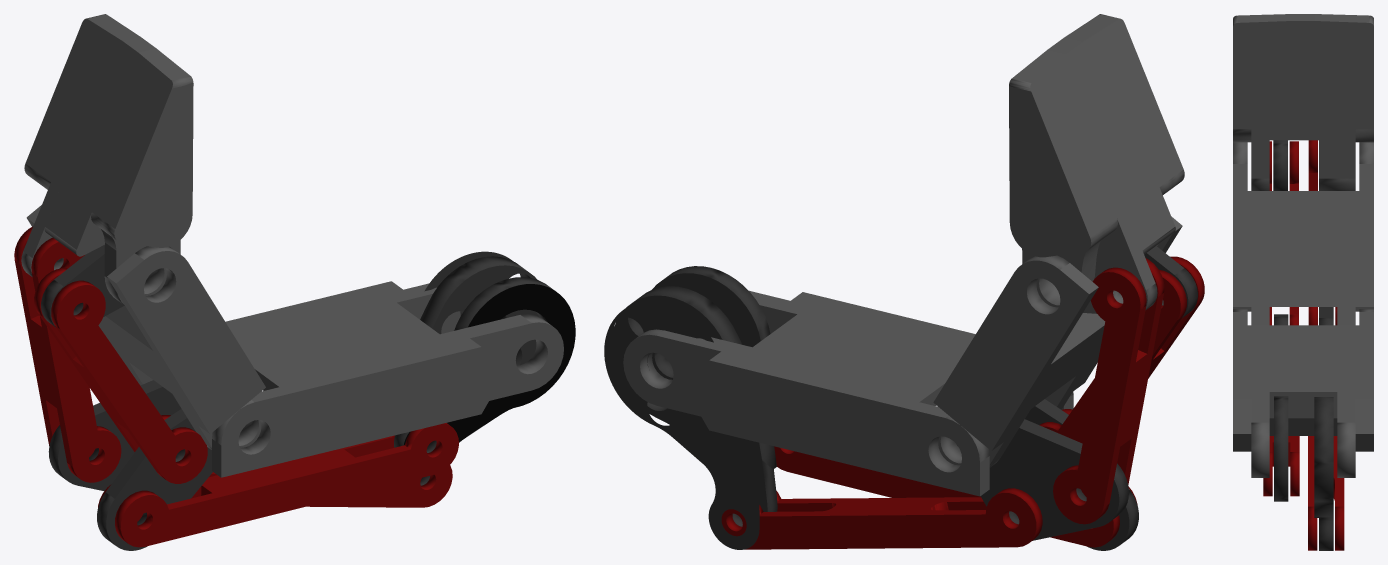
Rendered from finger.dae.
The picture shows the model from 3 angles, left to right: view 1: azimuth 30°, elevation 25°; view 2: azimuth 150°, elevation 25°; view 3: azimuth 270°, elevation 25°; orthographic projection. The views are drawn at different scales.
Parts seen in each view (by area): view 1: Actor11, Actor1, Actor0, Actor3, Actor5, Actor4, Actor7, Actor6, Actor9, Actor8, Actor2, Actor10; view 2: Actor11, Actor1, Actor0, Actor6, Actor2, Actor4, Actor8, Actor3, Actor7, Actor5, Actor9, Actor10; view 3: Actor1, Actor0, Actor11, Actor6, Actor2, Actor7, Actor3, Actor5, Actor10, Actor4, Actor8.
Boxes of the visible parts, x1,y1,x2,y2 form: Actor11: (212, 281, 563, 477); Actor1: (21, 14, 193, 305); Actor0: (26, 205, 265, 449); Actor3: (98, 423, 458, 547); Actor5: (34, 268, 207, 483); Actor4: (14, 226, 121, 482); Actor7: (394, 277, 575, 452); Actor6: (420, 251, 538, 485); Actor9: (97, 409, 243, 550); Actor8: (48, 380, 181, 490); Actor2: (209, 465, 452, 507); Actor10: (41, 244, 149, 327); Actor11: (623, 290, 1073, 496); Actor1: (1009, 14, 1184, 313); Actor0: (933, 216, 1182, 467); Actor6: (604, 286, 777, 549); Actor2: (721, 488, 1042, 549); Actor4: (1053, 258, 1164, 524); Actor8: (957, 419, 1128, 540); Actor3: (774, 446, 1137, 547); Actor7: (652, 266, 770, 347); Actor5: (1039, 256, 1204, 443); Actor9: (1025, 399, 1138, 550); Actor10: (1144, 246, 1197, 317); Actor1: (1233, 14, 1373, 190); Actor0: (1233, 142, 1373, 325); Actor11: (1233, 309, 1373, 477); Actor6: (1314, 397, 1333, 550); Actor2: (1308, 436, 1344, 550); Actor7: (1274, 396, 1288, 501); Actor3: (1263, 436, 1299, 496); Actor5: (1269, 141, 1298, 325); Actor10: (1273, 140, 1287, 190); Actor4: (1308, 140, 1337, 325); Actor8: (1319, 307, 1333, 325).
Bounding box in the file's own units: 0.1038 × 0.0307 × 0.1011.
